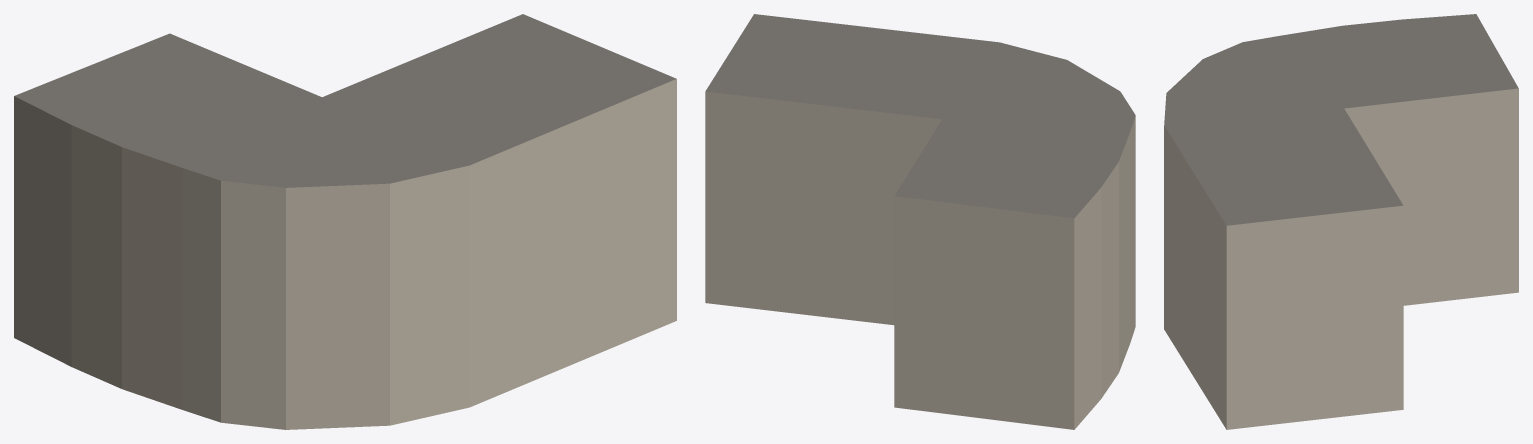
The picture shows the model from 3 angles, left to right: view 1: azimuth 30°, elevation 25°; view 2: azimuth 150°, elevation 25°; view 3: azimuth 270°, elevation 25°; orthographic projection. The views are drawn at different scales.
Parts seen in each view (by area): view 1: HP-w378107084; view 2: HP-w378107084; view 3: HP-w378107084.
Part boxes in pixels (x1,y1,x2,y2): HP-w378107084: (14, 14, 676, 429); HP-w378107084: (705, 14, 1135, 429); HP-w378107084: (1164, 14, 1518, 429).
Bounding box in the file's own units: 40.05 × 18 × 28.34.
